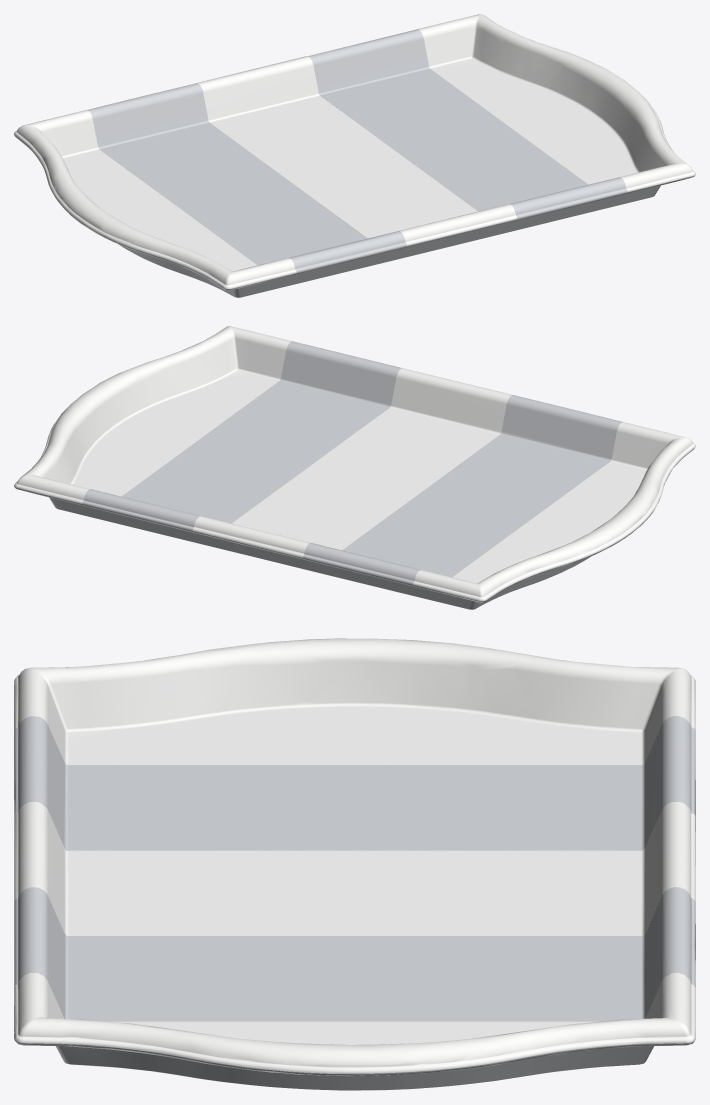
File: smula_taca_40041131.glb
3 renders of one model, top to bottom at view 1: azimuth 30°, elevation 25°; view 2: azimuth 150°, elevation 25°; view 3: azimuth 270°, elevation 25°, orthographic. The views are drawn at different scales.
Visible parts, largest first — view 1: smula_taca_40041131; view 2: smula_taca_40041131; view 3: smula_taca_40041131.
Part boxes in pixels (bbox=[...]): smula_taca_40041131: bbox=[14, 14, 695, 297]; smula_taca_40041131: bbox=[14, 326, 695, 609]; smula_taca_40041131: bbox=[14, 638, 695, 1090].
Bounding box in the file's own units: 0.5201 × 0.033 × 0.3503.
2 materials, 2 textured.
